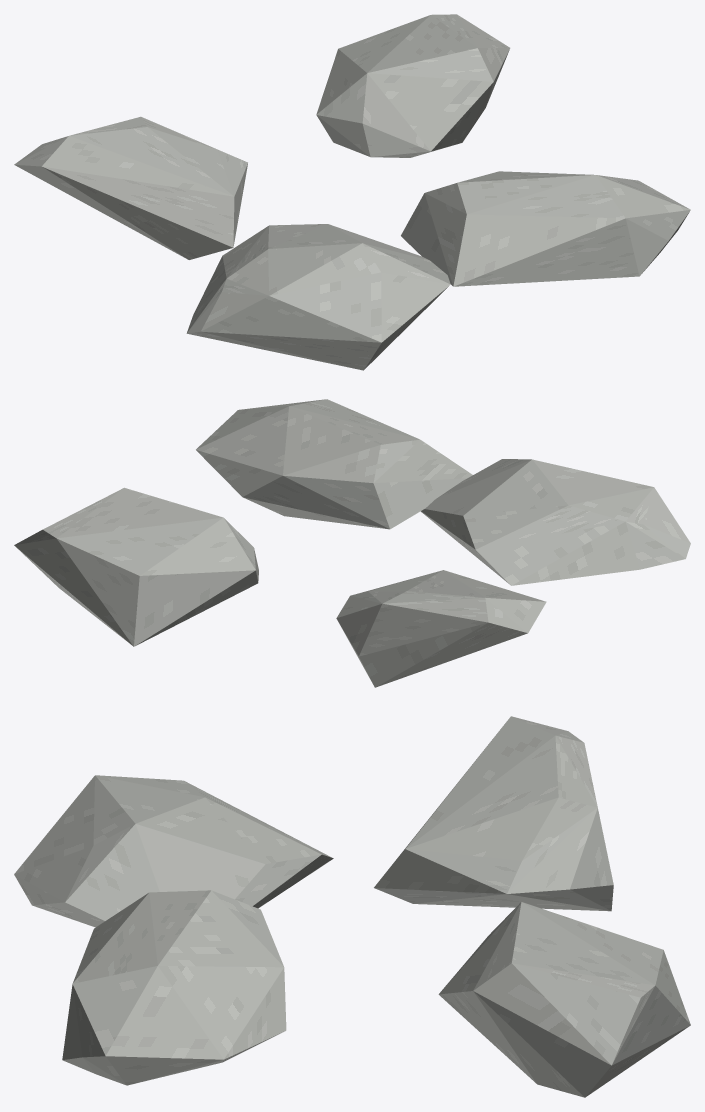
The model's file is dry_fish.glb.
3 renders of one model, top to bottom at view 1: azimuth 30°, elevation 25°; view 2: azimuth 150°, elevation 25°; view 3: azimuth 270°, elevation 25°, orthographic. The views are drawn at different scales.
Parts seen in each view (by area): view 1: block_dry piece (×4); view 2: block_dry piece (×4); view 3: block_dry piece (×4).
Part boxes in pixels (x1,y1,x2,y2): block_dry piece (×4): (14,14,690,370); block_dry piece (×4): (14,399,690,687); block_dry piece (×4): (14,716,690,1097).
Bounding box in the file's own units: 0.094 × 0.0182 × 0.0873.
1 material, 1 textured.
